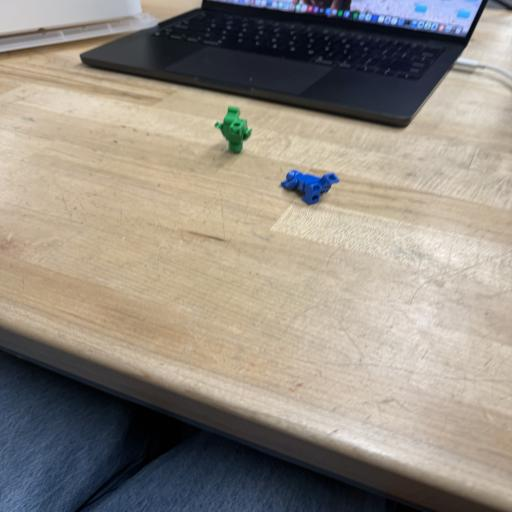blue-minifig: (281, 170, 339, 204)
green-minifig: (215, 106, 252, 153)
